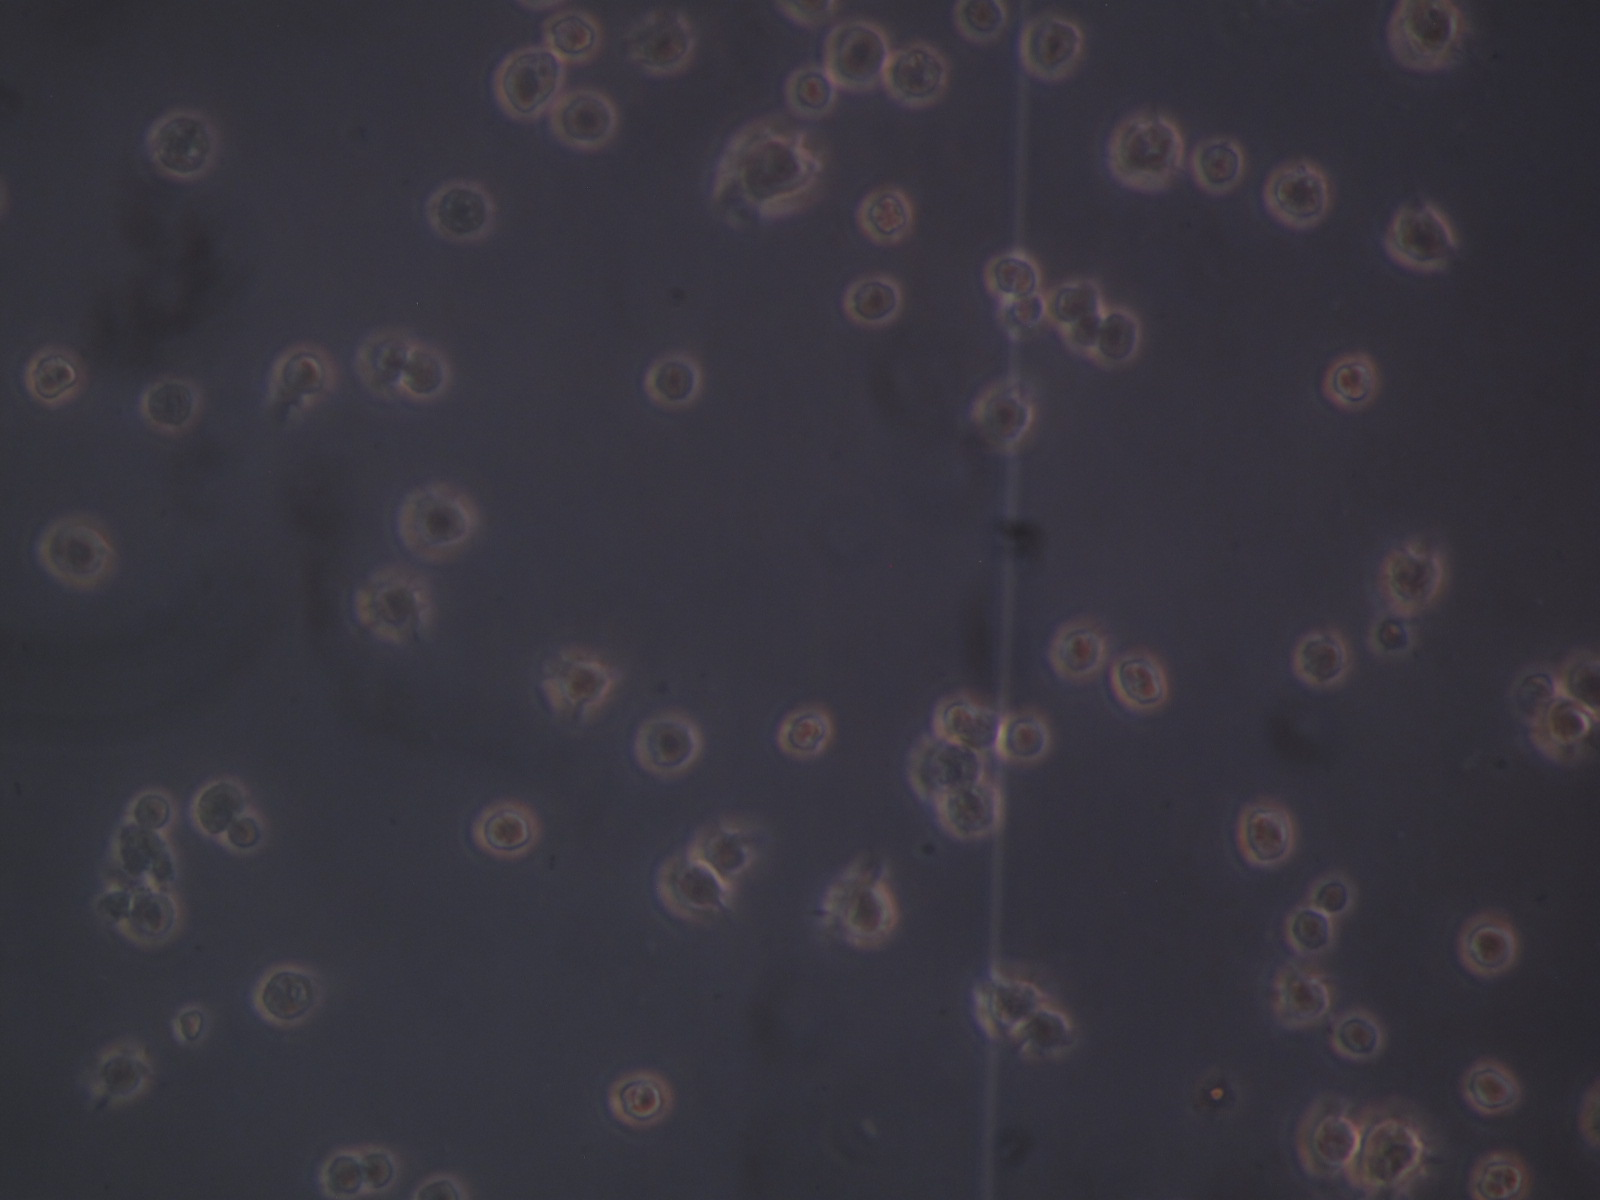hemo: (721, 124, 813, 216), (1352, 1095, 1430, 1197), (1107, 108, 1183, 192), (396, 484, 472, 565), (353, 568, 432, 644), (491, 45, 564, 121), (655, 852, 729, 925), (1296, 1095, 1361, 1180), (39, 516, 110, 589), (1387, 1, 1460, 71), (907, 730, 983, 797), (1383, 205, 1456, 274), (145, 110, 215, 178), (973, 972, 1043, 1039), (825, 19, 889, 92), (1528, 697, 1595, 766), (632, 711, 704, 775), (627, 13, 695, 79), (542, 648, 611, 713), (111, 822, 181, 886), (426, 180, 495, 243), (1019, 14, 1081, 84), (470, 794, 537, 858), (690, 816, 758, 879), (932, 691, 1002, 753), (1262, 166, 1329, 229), (551, 89, 617, 153), (1044, 618, 1107, 684), (254, 966, 321, 1029), (839, 880, 898, 950), (971, 384, 1036, 447), (188, 774, 249, 839), (270, 345, 338, 405), (1235, 799, 1294, 867), (884, 43, 947, 106), (605, 1068, 671, 1127), (1272, 959, 1330, 1027), (98, 1037, 152, 1108), (1456, 914, 1516, 978), (354, 328, 406, 401), (936, 782, 1002, 838), (123, 887, 181, 950), (1293, 628, 1349, 692), (139, 376, 198, 436), (1322, 352, 1380, 413), (1390, 545, 1441, 613), (1111, 650, 1168, 712), (26, 348, 86, 406), (842, 275, 902, 328), (540, 13, 601, 66), (643, 354, 700, 408), (1468, 1151, 1531, 1200), (857, 189, 912, 245), (1191, 137, 1243, 195), (1461, 1061, 1519, 1114), (775, 707, 831, 759), (999, 706, 1049, 764), (1284, 903, 1337, 957), (981, 250, 1042, 296), (784, 66, 837, 118), (1330, 1010, 1383, 1063), (1018, 1007, 1073, 1058), (121, 787, 176, 836), (1046, 281, 1101, 326), (951, 1, 1008, 45), (407, 343, 450, 401), (1511, 666, 1557, 716), (1368, 613, 1415, 659), (323, 1151, 367, 1200), (1102, 311, 1141, 367), (997, 295, 1047, 335), (1308, 872, 1353, 916), (171, 1002, 215, 1047), (223, 811, 267, 855), (1062, 315, 1104, 358), (360, 1148, 396, 1192)
